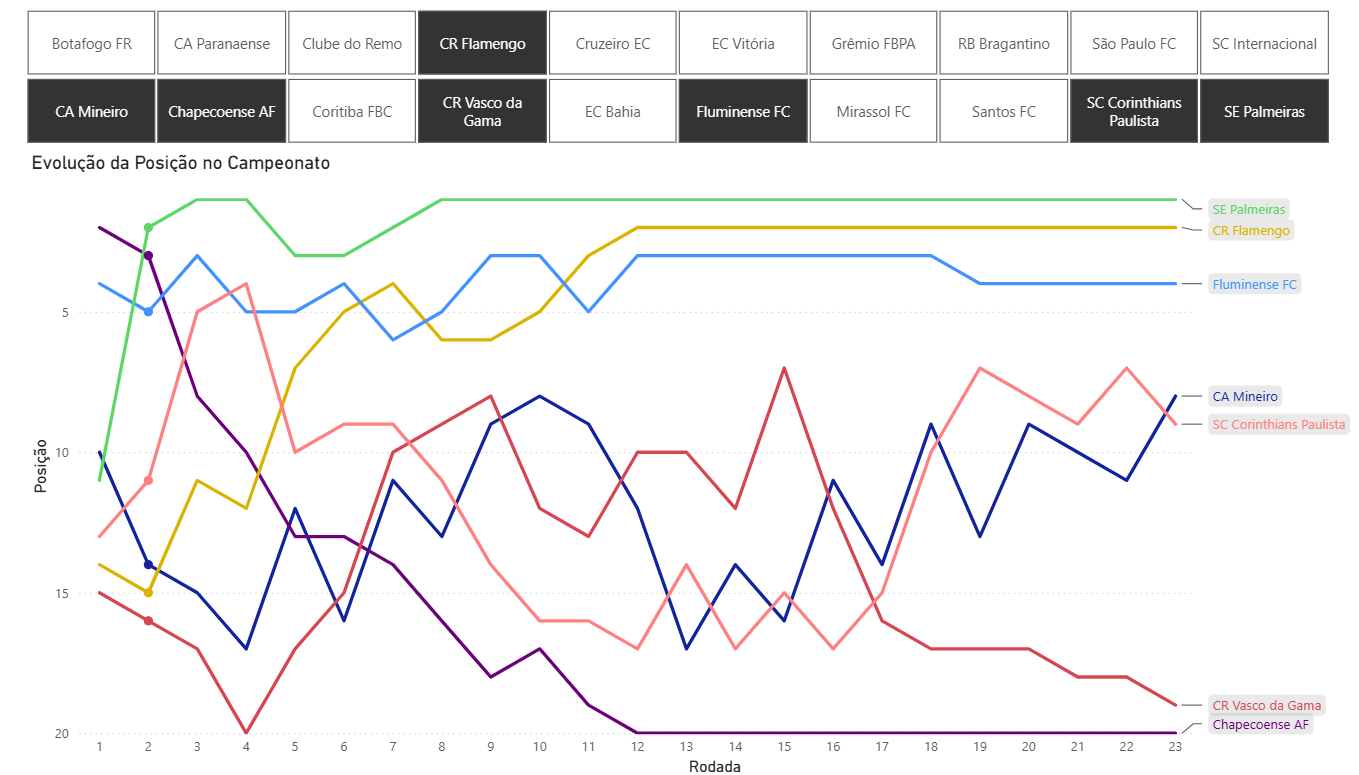

What the dashboard file says about the page in this screenshot:
{"tool":"powerbi","page":{"name":"Classificação Por Rodada","canvas":[1280,720],"ordinal":0},"visuals":[{"type":"lineChart","title":"Evolução da Posição no Campeonato","fields":{"Category":["public tbl_standings.gameweek"],"Y":["Min(public tbl_standings.position)"],"Series":["public tbl_teams.team_name"]},"box":[37.8,148.1,1208.6,572.3],"z":0},{"type":"slicer","fields":{"Values":["public tbl_teams.team_name"]},"box":[13.7,13.7,1232.7,134.4],"z":1000}]}

Visuals, with their boxes in screenshot pixels (x1, y1, x2, y2), scaled from the page's 1280x720 canvas onto the 1359x775 screenshot:
"Evolução da Posição no Campeonato" lineChart: bbox=[40, 159, 1323, 774]
slicer - public tbl_teams.team_name: bbox=[15, 15, 1323, 159]
